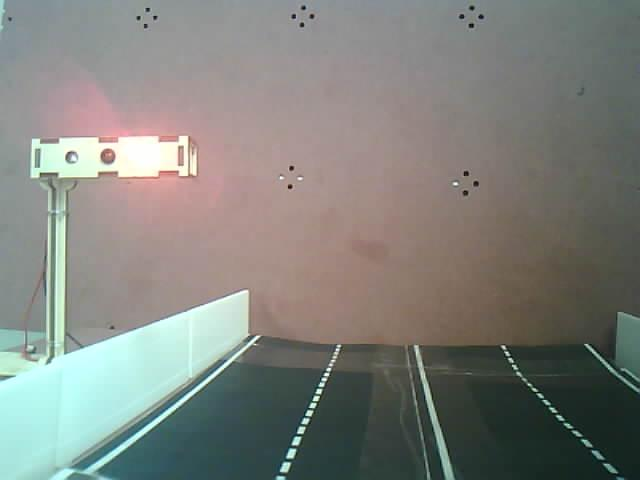red: (27, 124, 222, 255)
